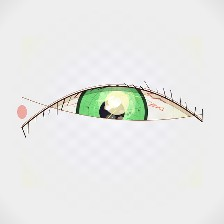corneal_ulcer: (97, 87, 137, 119)
